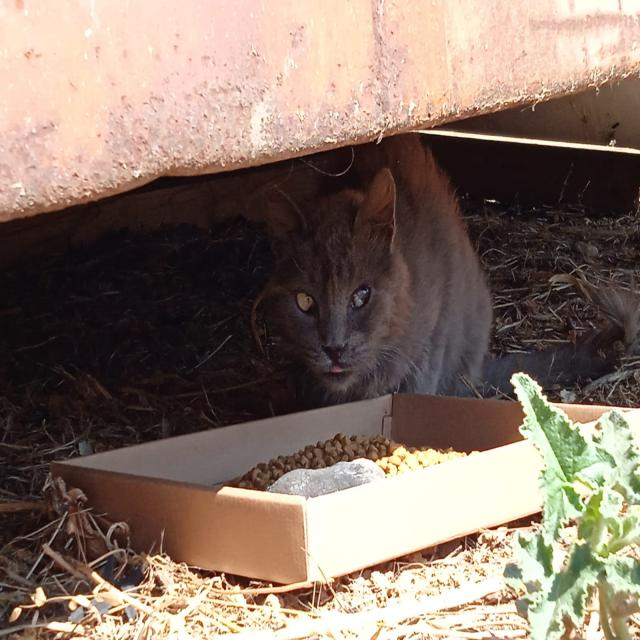cat: (252, 135, 492, 405)
